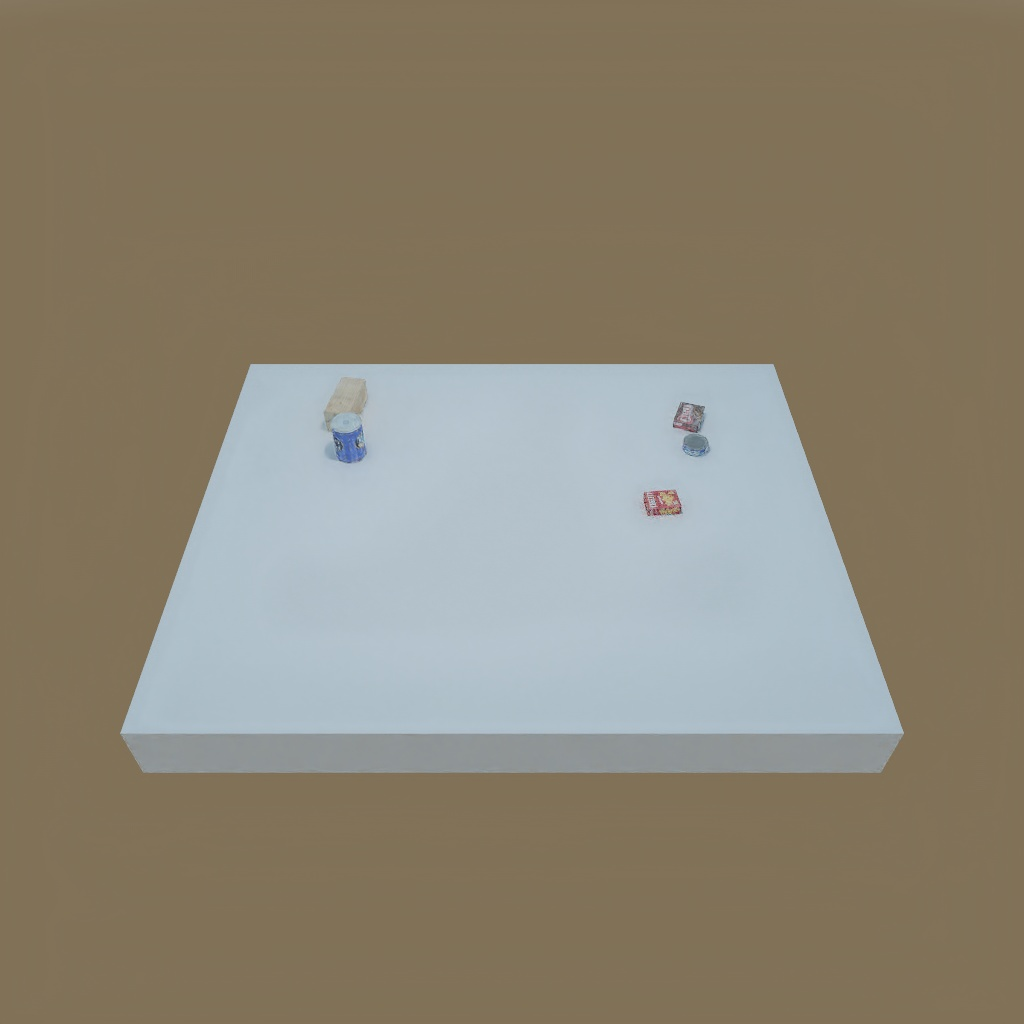master_chef_can: (323, 419, 370, 463)
pudding_box: (671, 399, 709, 433)
wood_block: (325, 376, 367, 429)
